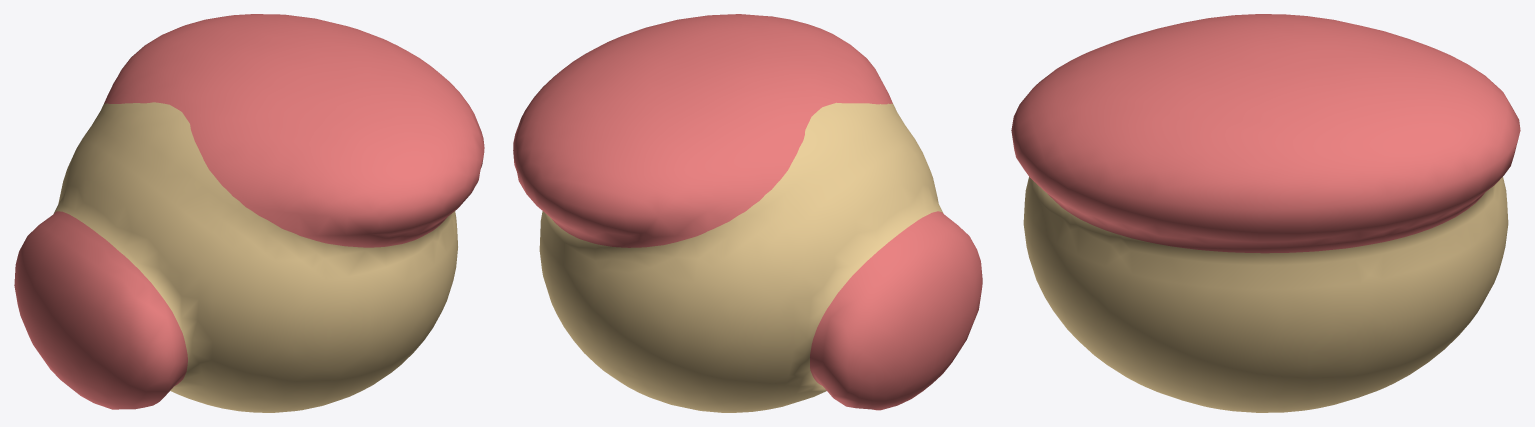
Rendered from acc_backpack.glb.
3 renders of one model, left to right at view 1: azimuth 30°, elevation 25°; view 2: azimuth 150°, elevation 25°; view 3: azimuth 270°, elevation 25°, orthographic. The views are drawn at different scales.
Visible parts, largest first — view 1: body; view 2: body; view 3: body.
Boxes of the visible parts, bbox=[...] form: body: bbox=[14, 14, 484, 412]; body: bbox=[513, 14, 982, 412]; body: bbox=[1011, 14, 1520, 412].
Bounding box in the file's own units: 0.3995 × 0.3105 × 0.3988.
